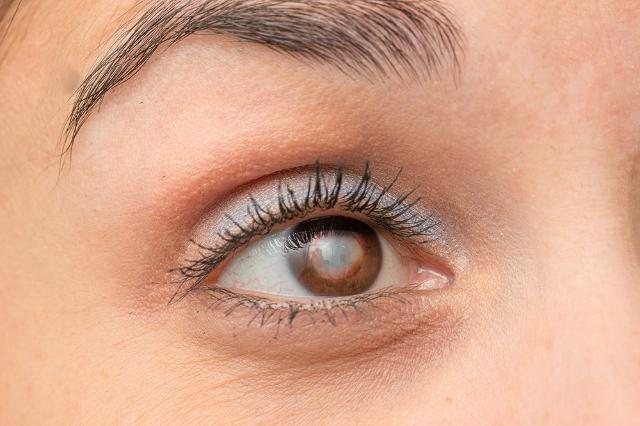eye: (287, 217, 381, 297)
